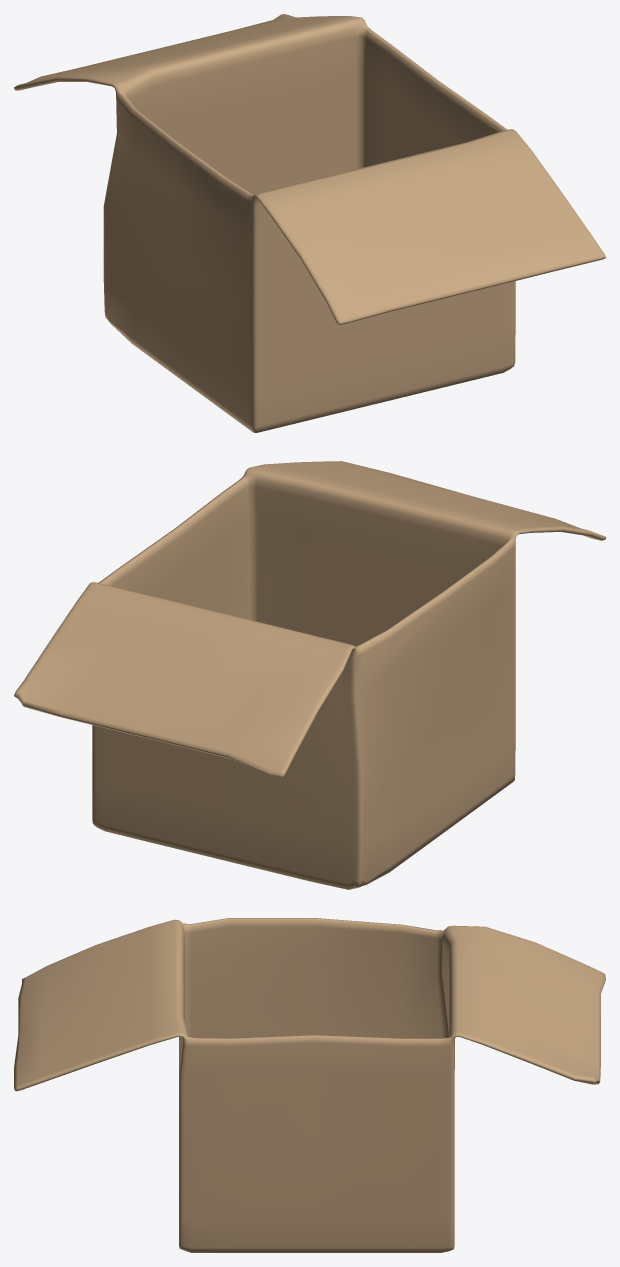
3 views of the same model, one above another, from view 1: azimuth 30°, elevation 25°; view 2: azimuth 150°, elevation 25°; view 3: azimuth 270°, elevation 25° (orthographic). The views are drawn at different scales.
Parts seen in each view (by area): view 1: Plane; view 2: Plane; view 3: Plane.
Part boxes in pixels (x1=…): Plane: x1=14, y1=14, x2=605, y2=432; Plane: x1=14, y1=461, x2=605, y2=889; Plane: x1=14, y1=918, x2=605, y2=1252.
Size of the model in its own units: 205 by 176 by 429.
